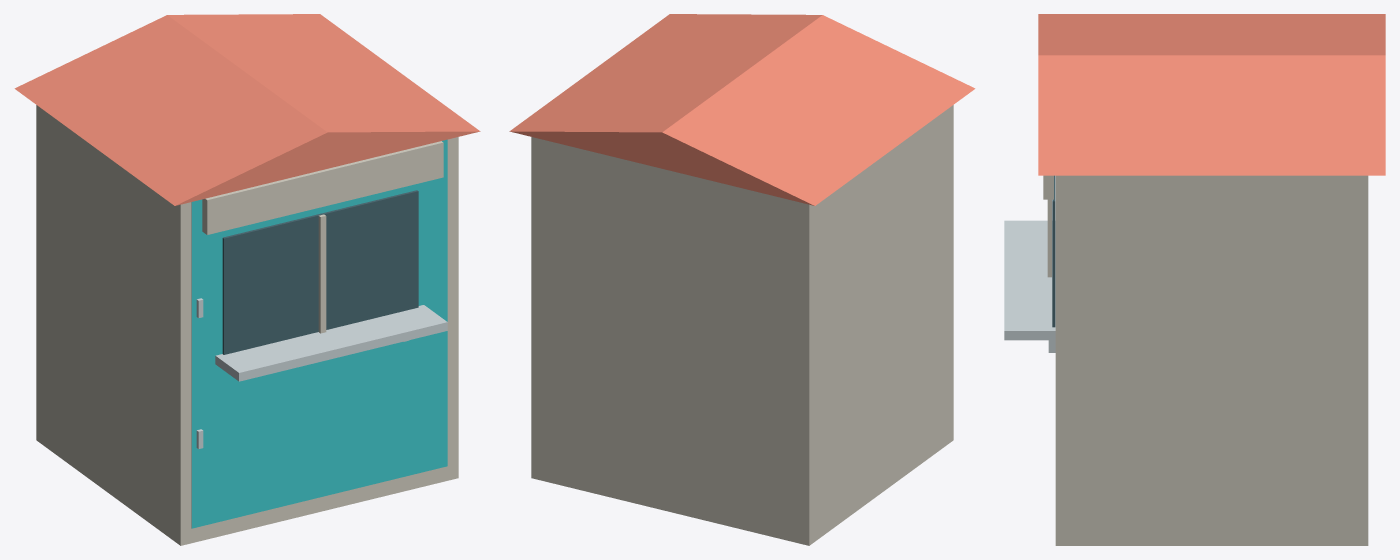
The model's file is waterpark-and-pool-operations-waterpark-and-pool-opera-d8eb7a4d__28976.glb.
The picture shows the model from 3 angles, left to right: view 1: azimuth 30°, elevation 25°; view 2: azimuth 150°, elevation 25°; view 3: azimuth 270°, elevation 25°; orthographic projection. The views are drawn at different scales.
Visible parts, largest first — view 1: waterpark-and-pool-operations-ticket-booth; view 2: waterpark-and-pool-operations-ticket-booth; view 3: waterpark-and-pool-operations-ticket-booth.
Part boxes in pixels (bbox=[...]): waterpark-and-pool-operations-ticket-booth: bbox=[14, 14, 480, 545]; waterpark-and-pool-operations-ticket-booth: bbox=[509, 14, 975, 545]; waterpark-and-pool-operations-ticket-booth: bbox=[1004, 14, 1385, 545].
Size of the model in its own units: 2.2 by 2.65 by 2.19.
